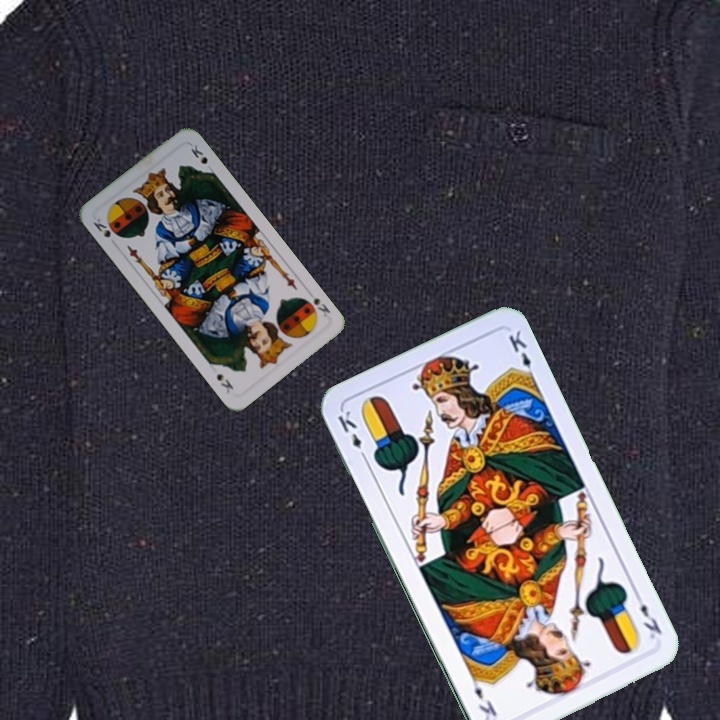EK: (334, 406, 370, 463), (631, 589, 665, 647)
SK: (89, 214, 122, 242), (310, 293, 333, 321)
